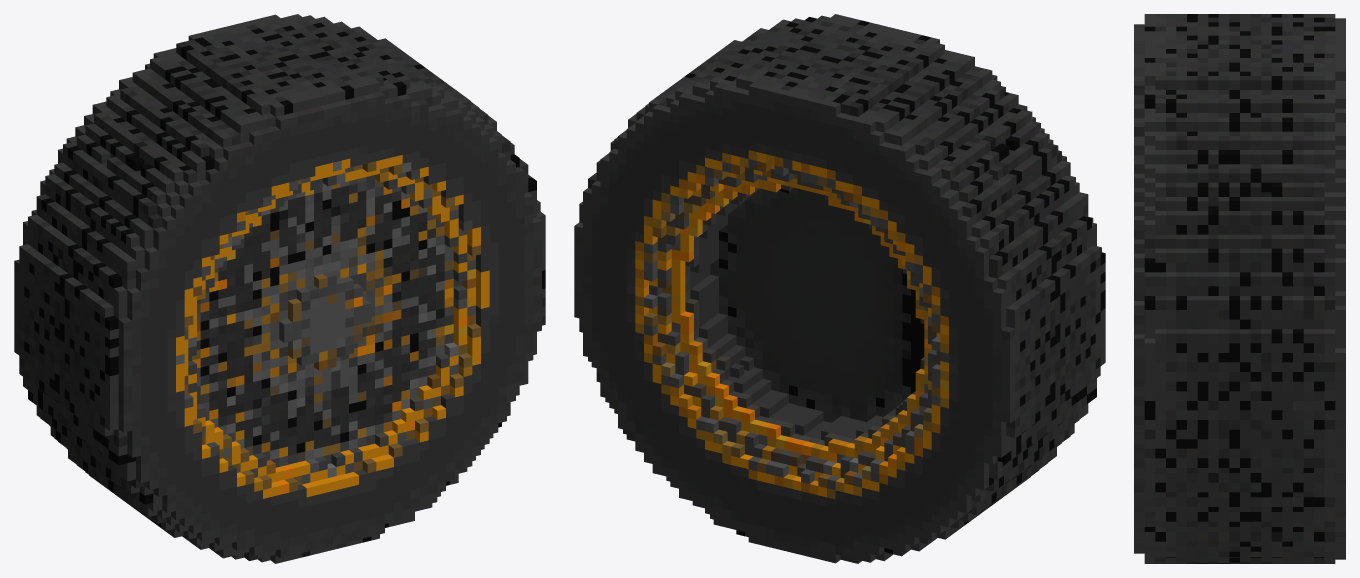
Rendered from WheelObj.obj.
3 renders of one model, left to right at view 1: azimuth 30°, elevation 25°; view 2: azimuth 150°, elevation 25°; view 3: azimuth 270°, elevation 25°, orthographic. The views are drawn at different scales.
Size of the model in its own units: 5 by 5 by 2.
